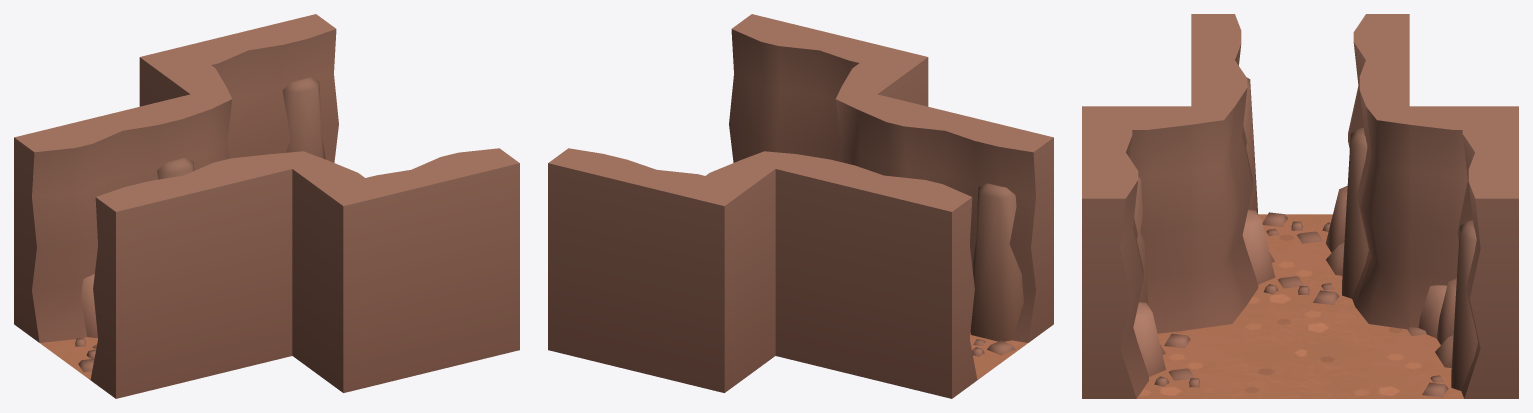
File: corridor-transition.glb
3 views of the same model, side by side, from view 1: azimuth 30°, elevation 25°; view 2: azimuth 150°, elevation 25°; view 3: azimuth 270°, elevation 25° (orthographic). The views are drawn at different scales.
Parts seen in each view (by area): view 1: corridor-transition; view 2: corridor-transition; view 3: corridor-transition.
Boxes of the visible parts, left/top/right/bottom form: corridor-transition: left=14, top=14, right=519, bottom=398; corridor-transition: left=548, top=14, right=1053, bottom=398; corridor-transition: left=1082, top=14, right=1518, bottom=398.
Size of the model in its own units: 8 by 4.05 by 8.
1 material, 1 textured.
